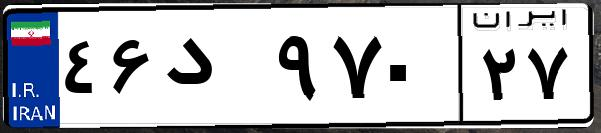0: (385, 28, 445, 110)
2: (475, 38, 525, 113)
4: (57, 26, 110, 100)
6: (110, 28, 158, 98)
7: (330, 28, 385, 110), (525, 38, 570, 115)
9: (270, 28, 330, 110)
د: (158, 20, 270, 120)
